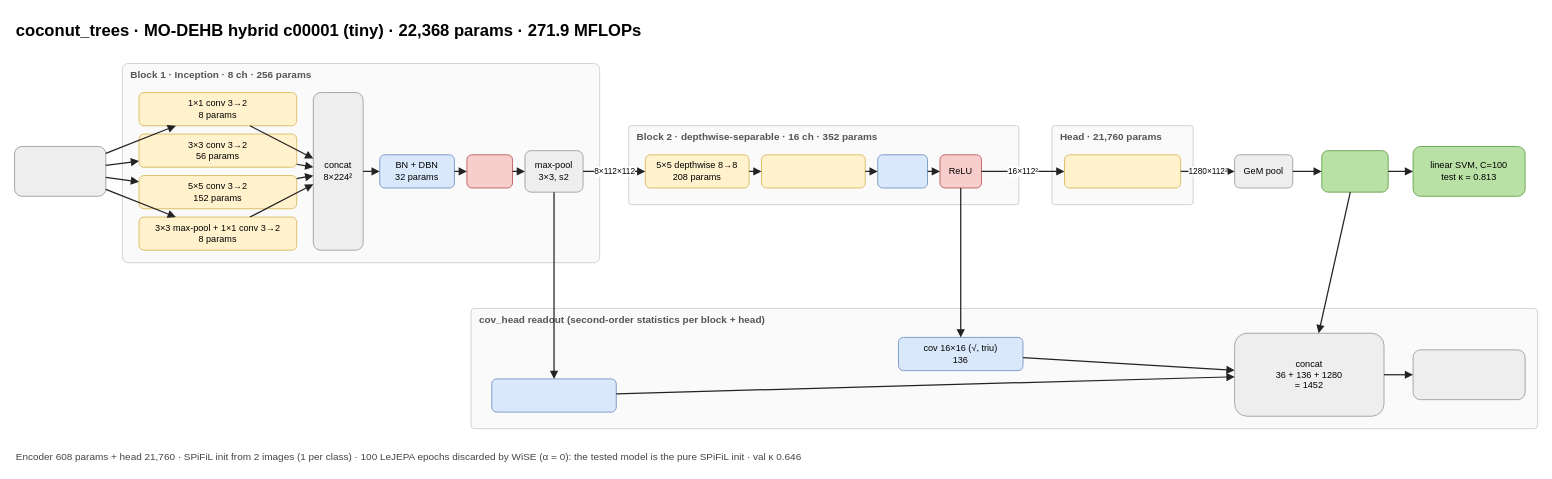
This 1552x479 diagram has some shape labels left out. The shapes that lost their labels are listed below. From the top down, each one's centre as x and y in pixels, then its label:
At point 60,171: "Input 3×224×224".
At point 489,171: "GELU".
At point 813,171: "1×1 pointwise 8→16 144 params".
At point 902,171: "ZCA".
At point 1122,171: "1×1 conv 16→1280 21,760 params".
At point 1354,171: "vector 1280".
At point 1468,374: "std + SVM, C=100 test κ = 0.695".
At point 553,395: "cov 8×8 (√, triu) 36".
